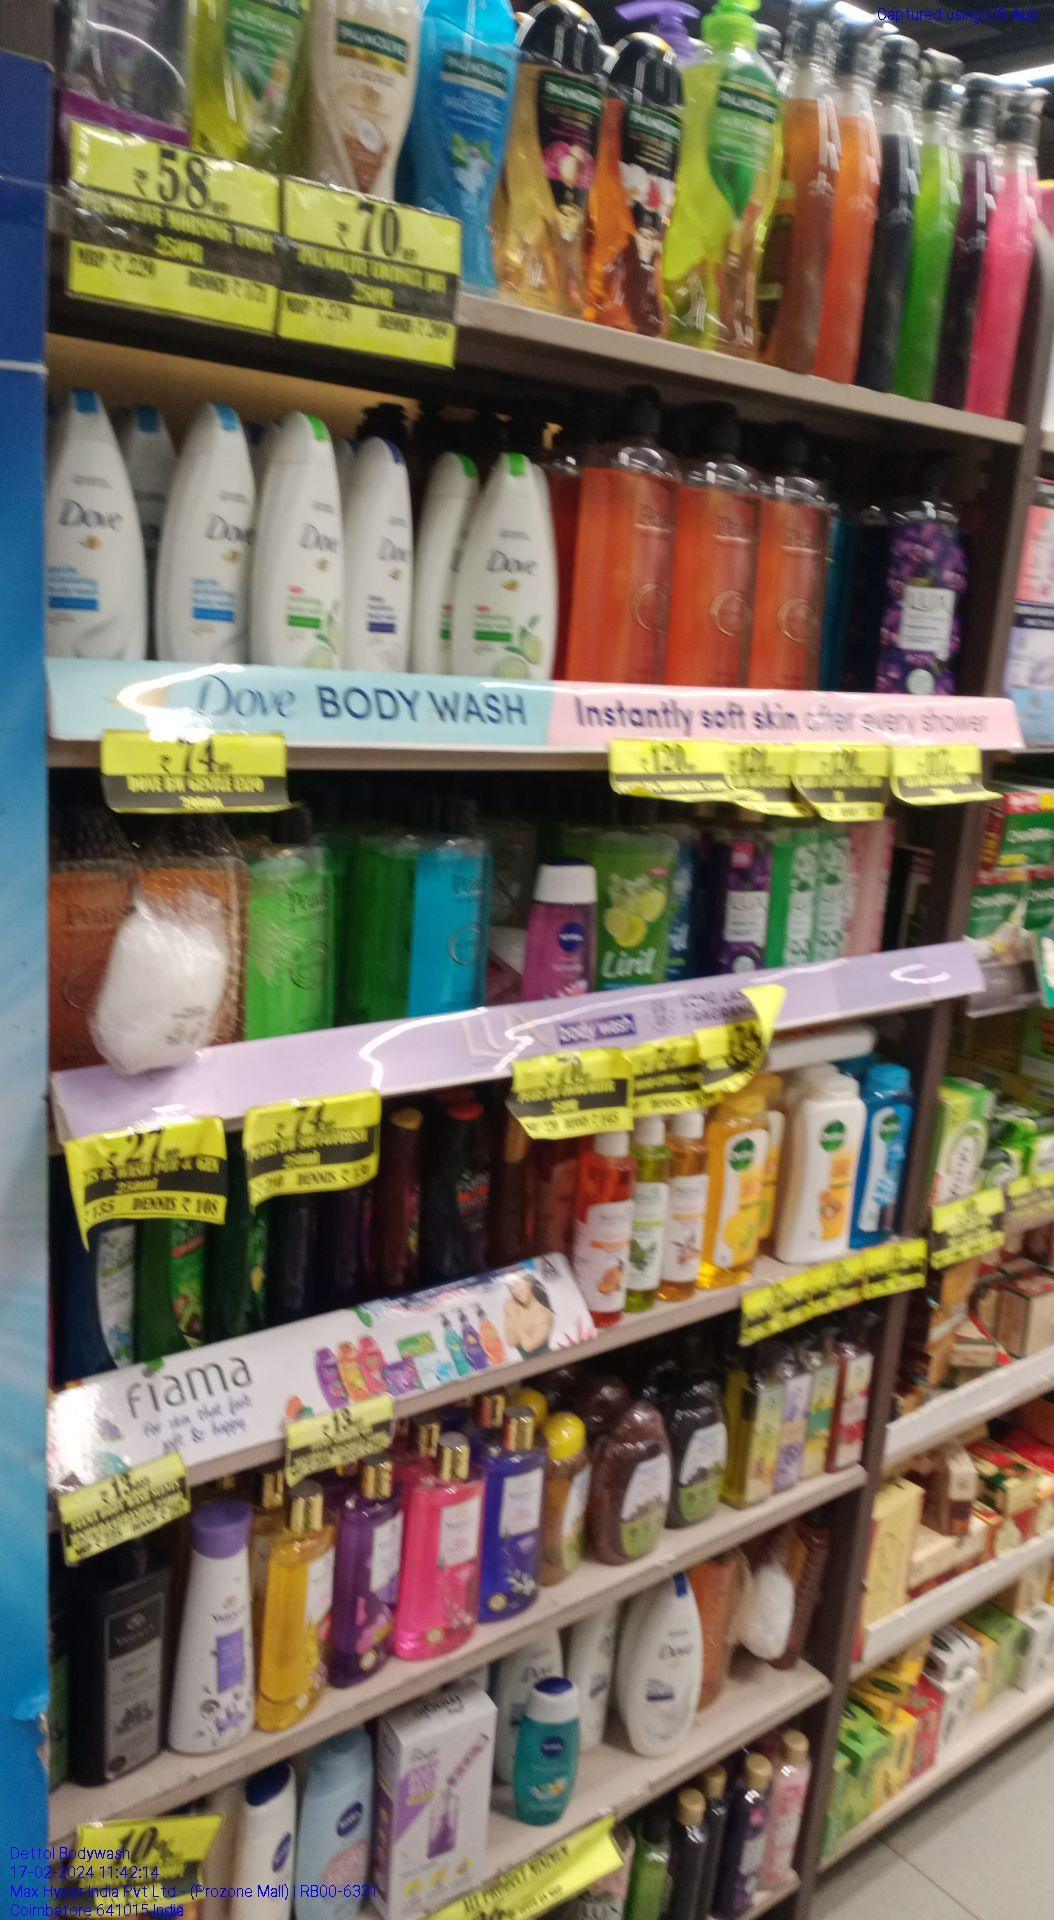Dettol_Bodywash_Cool: (872, 1073, 913, 1243)
Dettol_Bodywash_Refresh: (710, 1098, 768, 1288)
Dettol_Nourish_Body_Wash_250ML: (793, 1083, 866, 1264)
Dove_Deep_Moisture_Body_Wash_250ML: (358, 438, 421, 667)
Dove_Gentle_Exfoliating_Body_Wash_250ML: (44, 387, 152, 664), (164, 398, 251, 664)
Dove_Refreshing_Body_Wash_250ML: (267, 411, 349, 667), (457, 459, 552, 675)
